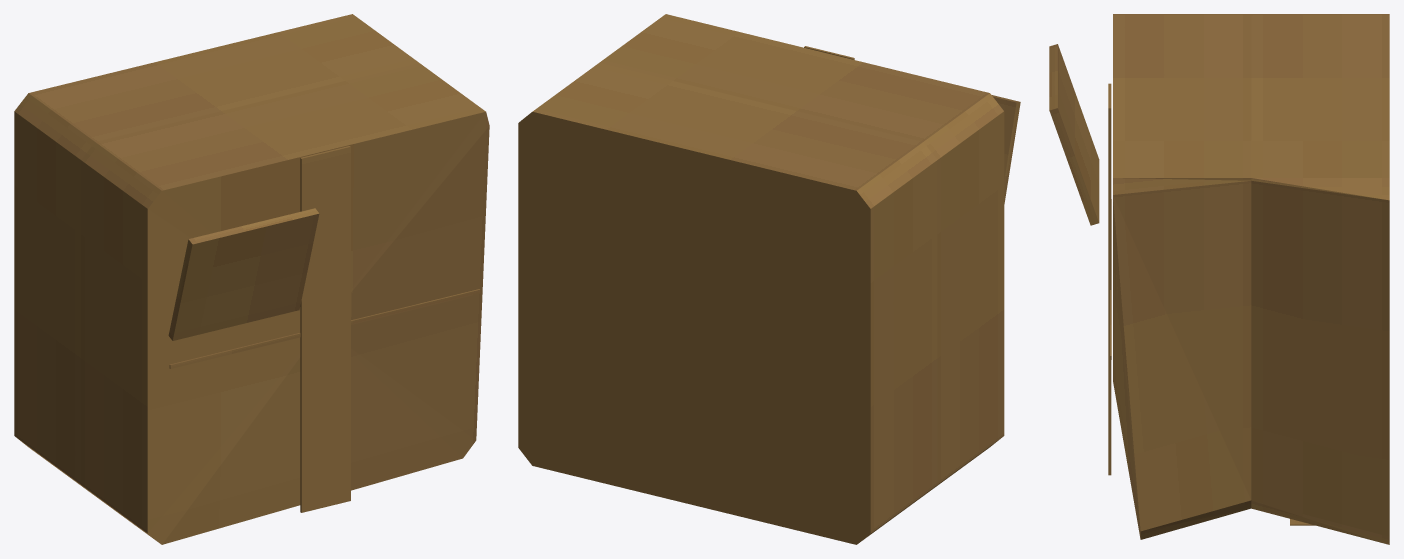
Rendered from cardboard_dented.obj.
3 renders of one model, left to right at view 1: azimuth 30°, elevation 25°; view 2: azimuth 150°, elevation 25°; view 3: azimuth 270°, elevation 25°, orthographic. The views are drawn at different scales.
Parts seen in each view (by area): view 1: cardboard_dented; view 2: cardboard_dented; view 3: cardboard_dented.
Boxes of the visible parts, box(x1,y1,x2,y2) form: cardboard_dented: box(14, 14, 489, 544); cardboard_dented: box(518, 14, 1020, 544); cardboard_dented: box(1049, 14, 1389, 544).
Size of the model in its own units: 0.756 by 0.73 by 0.6099.
1 material, 1 textured.
